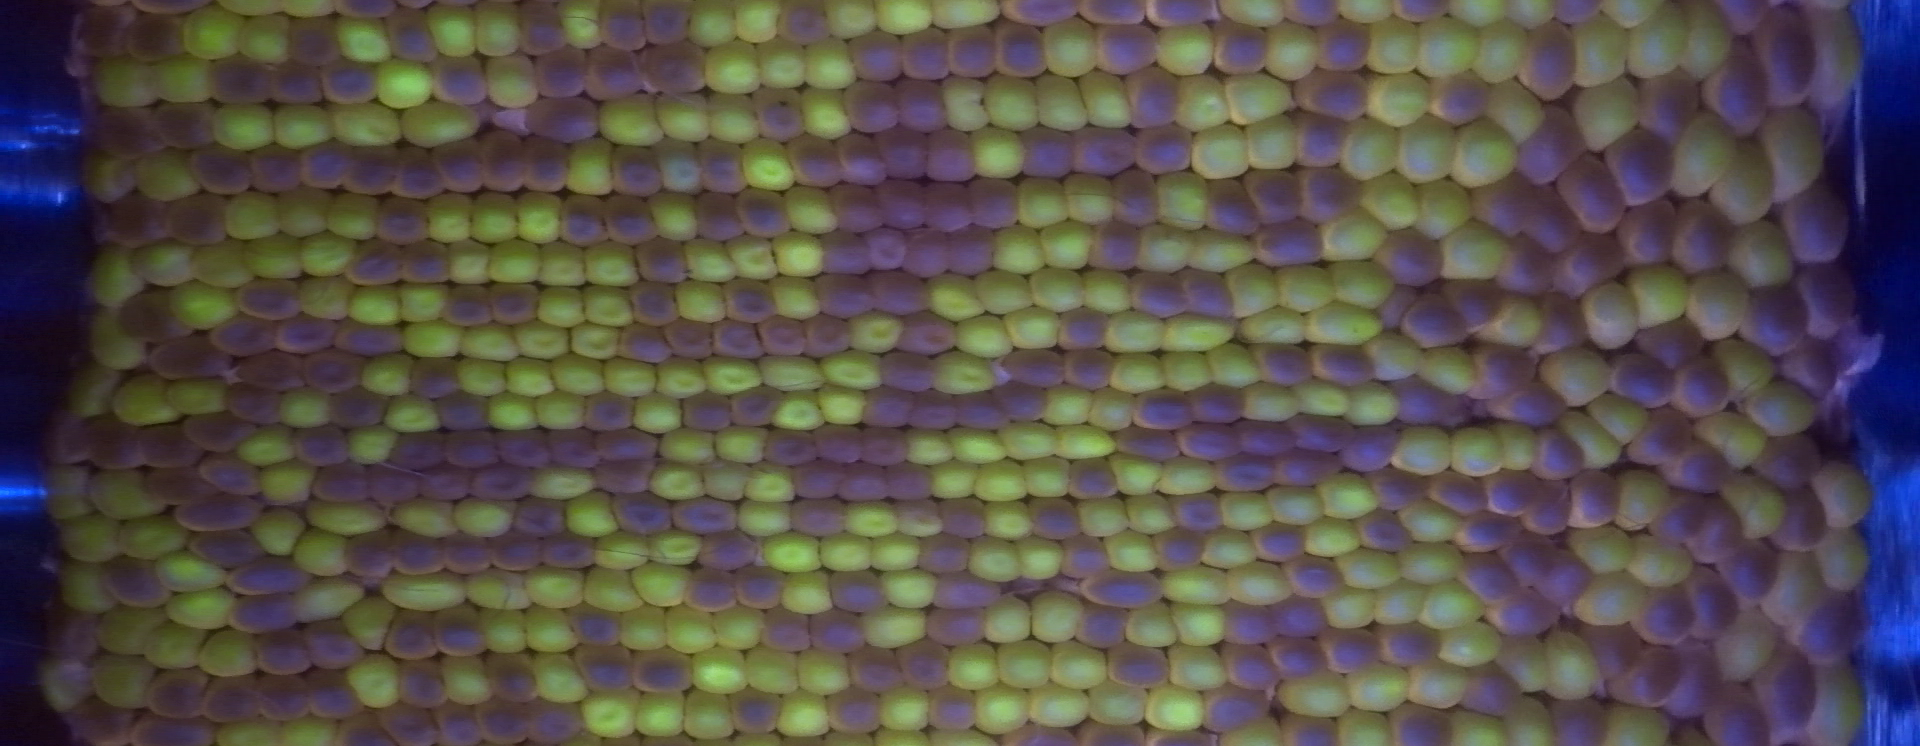fluorescent: (1767, 107, 1822, 202), (1673, 111, 1731, 197), (1767, 544, 1826, 630), (1575, 80, 1643, 152), (1714, 145, 1774, 225), (1817, 13, 1866, 110), (1811, 661, 1864, 746), (1685, 269, 1745, 343), (1627, 12, 1691, 81), (1453, 120, 1515, 191), (1547, 631, 1604, 706), (1414, 13, 1480, 78), (1738, 380, 1812, 436), (1720, 472, 1783, 539), (1719, 604, 1769, 686), (1693, 413, 1768, 468), (81, 472, 164, 521), (1485, 77, 1545, 145), (1438, 220, 1505, 281), (1816, 459, 1870, 534), (1730, 225, 1791, 290), (1572, 571, 1643, 626), (1570, 20, 1627, 86), (1627, 265, 1690, 325), (109, 376, 180, 428), (1629, 530, 1691, 588), (1402, 115, 1456, 181), (1718, 334, 1772, 401), (1344, 118, 1400, 181), (596, 94, 662, 147), (92, 316, 153, 372), (1155, 171, 1209, 235), (1540, 352, 1607, 403), (1358, 173, 1417, 230), (1416, 175, 1471, 236), (1320, 208, 1382, 262), (399, 104, 478, 147), (169, 284, 238, 333), (96, 56, 160, 108), (1476, 20, 1527, 85), (1392, 426, 1453, 480), (58, 514, 120, 567), (1816, 526, 1869, 588), (1685, 2, 1728, 78), (135, 148, 195, 202), (381, 570, 460, 610), (1307, 307, 1384, 349), (1224, 76, 1293, 122), (131, 243, 200, 289), (1581, 289, 1637, 345), (973, 684, 1031, 739), (1277, 671, 1347, 717), (1371, 76, 1431, 129), (88, 250, 141, 310), (1572, 526, 1633, 577), (482, 50, 538, 107), (182, 5, 240, 59), (1041, 18, 1095, 76), (1592, 388, 1649, 442), (165, 374, 230, 421), (1417, 582, 1482, 630), (1266, 20, 1319, 78), (1079, 67, 1131, 126), (118, 516, 187, 560), (1158, 315, 1234, 355), (88, 663, 152, 710), (583, 563, 647, 611), (376, 58, 432, 111), (274, 186, 333, 238), (1226, 258, 1277, 317), (1569, 408, 1620, 467), (293, 530, 354, 579), (1422, 343, 1476, 398), (1245, 115, 1302, 168), (474, 1, 525, 59), (1618, 465, 1663, 530), (99, 609, 160, 657), (162, 590, 234, 631), (1191, 228, 1258, 272), (704, 40, 758, 94), (1033, 75, 1086, 130), (564, 488, 620, 540), (66, 358, 118, 414), (200, 630, 257, 680), (332, 107, 399, 149), (1030, 684, 1093, 729), (1411, 661, 1469, 710), (242, 233, 302, 281), (467, 563, 527, 611), (1340, 546, 1404, 590), (157, 552, 225, 594), (1438, 619, 1499, 665), (1160, 24, 1213, 77), (531, 649, 584, 703), (225, 191, 280, 243), (343, 657, 398, 708), (998, 642, 1053, 693), (1488, 294, 1543, 345), (293, 575, 355, 620), (1144, 686, 1206, 731), (707, 93, 763, 143), (304, 500, 383, 535), (1368, 18, 1417, 76), (1276, 262, 1333, 311), (1401, 494, 1460, 541), (271, 103, 336, 146), (744, 141, 797, 194), (982, 76, 1036, 127), (458, 320, 522, 363), (1227, 563, 1291, 606), (688, 652, 752, 695), (454, 495, 514, 540), (673, 274, 725, 327), (64, 561, 115, 614), (255, 506, 306, 559), (1053, 637, 1106, 688), (336, 13, 389, 64), (983, 590, 1033, 644), (858, 606, 923, 648), (1068, 173, 1117, 228), (992, 223, 1047, 272), (1402, 541, 1462, 586), (803, 36, 853, 88), (1178, 76, 1231, 126), (948, 641, 998, 693), (1191, 127, 1245, 176), (616, 605, 671, 653), (1347, 668, 1408, 710), (758, 352, 823, 392), (1336, 261, 1393, 306), (49, 464, 94, 522), (156, 58, 214, 102), (945, 75, 989, 134), (1166, 644, 1224, 688), (443, 654, 491, 708), (522, 608, 576, 655), (580, 691, 636, 737), (1449, 431, 1504, 478), (486, 240, 542, 285), (800, 88, 850, 138), (656, 91, 707, 141), (634, 559, 684, 609), (1044, 222, 1093, 273), (931, 352, 989, 394), (1029, 594, 1078, 646), (429, 2, 476, 55), (1139, 223, 1191, 271), (665, 603, 718, 650), (1240, 305, 1307, 343), (978, 267, 1032, 314), (148, 621, 203, 666), (326, 196, 382, 240), (1000, 421, 1057, 465), (683, 693, 740, 737), (1108, 312, 1166, 355), (780, 573, 838, 616), (389, 497, 454, 535), (749, 649, 800, 698), (975, 130, 1026, 178), (1324, 472, 1375, 519), (651, 191, 698, 244), (583, 241, 636, 288), (189, 246, 251, 285), (1607, 707, 1669, 746), (785, 187, 839, 233), (1158, 567, 1227, 603), (636, 696, 691, 740), (1495, 420, 1539, 475), (1239, 383, 1300, 423), (771, 230, 822, 278), (687, 2, 738, 49), (475, 191, 522, 243), (780, 692, 833, 737), (1269, 488, 1327, 528), (1158, 456, 1217, 496), (1449, 702, 1502, 746), (571, 141, 613, 196), (820, 352, 880, 391), (756, 39, 804, 87), (931, 276, 980, 323), (429, 192, 475, 243), (1033, 267, 1084, 314), (1370, 330, 1417, 380), (216, 107, 273, 147), (959, 316, 1016, 356), (1298, 379, 1356, 419), (299, 233, 351, 277), (517, 192, 561, 245), (1021, 174, 1065, 227), (345, 595, 389, 648), (1078, 494, 1131, 537), (500, 360, 558, 399), (762, 532, 820, 571), (479, 612, 527, 660), (880, 688, 929, 735), (541, 238, 587, 288), (1163, 350, 1215, 394), (633, 393, 684, 437), (849, 311, 901, 354), (1025, 456, 1078, 499), (591, 533, 649, 572), (524, 565, 582, 604), (241, 15, 288, 62), (82, 159, 131, 205), (583, 285, 633, 330), (605, 356, 655, 401), (1042, 383, 1092, 428), (1090, 685, 1146, 724), (553, 356, 605, 399), (276, 390, 328, 431), (239, 425, 291, 467), (977, 461, 1031, 501), (820, 534, 874, 575), (844, 499, 898, 539), (714, 605, 762, 650), (800, 652, 847, 697), (1224, 489, 1273, 533), (1212, 341, 1262, 383), (1349, 381, 1400, 424), (528, 462, 593, 495), (705, 353, 758, 393), (1127, 605, 1179, 646), (1371, 583, 1425, 622), (658, 428, 713, 465), (981, 503, 1036, 541), (969, 541, 1019, 583), (1058, 425, 1117, 461), (715, 425, 767, 465), (1202, 526, 1254, 566), (1174, 606, 1227, 646), (397, 281, 444, 323), (518, 321, 569, 360), (1113, 354, 1164, 393), (1106, 530, 1157, 570), (1506, 695, 1545, 746), (740, 2, 785, 47), (770, 274, 817, 317), (659, 356, 705, 399), (261, 465, 315, 502), (1307, 517, 1356, 557), (1007, 309, 1057, 348), (949, 425, 999, 464), (929, 462, 980, 501), (883, 571, 936, 608), (1082, 269, 1130, 310), (1324, 584, 1371, 625), (300, 283, 351, 320), (407, 323, 462, 358), (386, 396, 437, 432), (1090, 386, 1131, 431), (560, 2, 600, 49), (933, 2, 1003, 29), (871, 532, 918, 571), (351, 284, 400, 322), (648, 464, 702, 499), (735, 497, 789, 532), (567, 323, 617, 360), (733, 236, 775, 281), (688, 245, 733, 285), (538, 289, 583, 330), (909, 428, 954, 468), (351, 425, 392, 470), (1127, 495, 1172, 535), (362, 358, 409, 397), (1018, 540, 1064, 579), (1112, 458, 1161, 495), (820, 391, 869, 428), (462, 359, 504, 401), (775, 394, 822, 432), (742, 465, 791, 501), (451, 243, 491, 285), (882, 4, 936, 36), (486, 396, 538, 429), (531, 394, 580, 429), (827, 2, 878, 34), (650, 533, 699, 565)
nonfluorescent: (1776, 576, 1859, 663), (1509, 103, 1584, 183), (1709, 40, 1771, 136), (1558, 151, 1624, 233), (1755, 10, 1813, 100), (1760, 649, 1818, 739), (1740, 284, 1811, 358), (1607, 127, 1673, 205), (1673, 192, 1731, 278), (1785, 186, 1848, 266), (1518, 21, 1575, 100), (1600, 345, 1675, 404), (1611, 647, 1678, 710), (1531, 292, 1586, 367), (1704, 682, 1769, 746), (1771, 489, 1829, 559), (1558, 234, 1625, 294), (1473, 171, 1534, 236), (1641, 70, 1702, 134), (103, 190, 169, 249), (116, 292, 189, 344), (1522, 185, 1578, 252), (1621, 200, 1675, 269), (1689, 568, 1739, 643), (1630, 586, 1692, 646), (1636, 318, 1704, 372), (1805, 267, 1855, 341), (1670, 638, 1716, 719), (1760, 430, 1822, 488), (1379, 225, 1442, 282), (1393, 375, 1461, 428), (642, 45, 709, 97), (1651, 492, 1709, 551), (1211, 16, 1269, 76), (1584, 622, 1633, 692), (1779, 345, 1847, 396), (1296, 73, 1371, 118), (100, 557, 165, 609), (1488, 383, 1567, 425), (93, 105, 153, 160), (1629, 412, 1689, 467), (191, 146, 253, 198), (164, 198, 227, 251), (1429, 71, 1491, 124), (573, 644, 637, 696), (1489, 590, 1559, 637), (1016, 124, 1075, 179), (84, 416, 143, 472), (1461, 661, 1520, 717), (996, 20, 1048, 81), (1692, 500, 1742, 563), (1258, 223, 1326, 269), (1071, 127, 1136, 176), (392, 143, 449, 198), (1668, 436, 1725, 491), (227, 554, 304, 594), (184, 528, 266, 566), (433, 138, 489, 195), (1404, 295, 1463, 348), (1354, 507, 1416, 557), (147, 668, 209, 717), (923, 127, 978, 183), (587, 47, 639, 104), (337, 146, 396, 197), (1444, 279, 1502, 331), (149, 339, 231, 376), (1133, 122, 1193, 173), (253, 627, 313, 677), (252, 671, 312, 722), (1723, 543, 1773, 603), (80, 1, 129, 62), (384, 7, 440, 61), (1205, 179, 1259, 234), (1310, 341, 1378, 385), (1675, 361, 1729, 416), (432, 54, 489, 107), (601, 195, 658, 247), (1468, 345, 1524, 398), (124, 13, 182, 64), (1127, 268, 1185, 318), (1106, 646, 1174, 688), (997, 348, 1067, 390), (1247, 171, 1300, 225), (1316, 16, 1369, 71), (610, 141, 662, 196), (1531, 430, 1587, 481), (817, 269, 874, 320), (1093, 24, 1157, 70), (525, 102, 599, 141), (331, 383, 389, 432), (304, 673, 362, 722), (336, 318, 404, 360), (787, 134, 840, 187), (1458, 511, 1524, 554), (1297, 113, 1346, 170), (1296, 170, 1344, 228), (1389, 704, 1456, 746), (634, 649, 694, 696), (1547, 699, 1607, 746), (670, 492, 741, 532), (247, 146, 309, 191), (1111, 171, 1163, 224), (38, 659, 91, 712), (1029, 491, 1081, 544), (233, 278, 301, 318), (1458, 551, 1512, 603), (433, 606, 489, 657), (1498, 241, 1553, 292), (1127, 67, 1176, 124), (480, 129, 524, 191), (200, 456, 266, 497), (1340, 424, 1398, 470), (1272, 594, 1331, 641), (835, 132, 887, 185), (896, 78, 948, 131), (40, 412, 91, 465), (375, 198, 430, 247), (556, 196, 611, 245), (43, 608, 99, 655), (304, 621, 360, 669), (683, 567, 740, 615), (1374, 464, 1430, 512), (1113, 420, 1176, 463), (1082, 575, 1163, 608), (1174, 423, 1240, 463), (1284, 555, 1343, 600), (173, 499, 260, 529), (538, 48, 588, 100), (853, 32, 904, 85), (948, 29, 998, 82), (845, 85, 898, 135), (831, 183, 882, 235), (1221, 599, 1273, 649), (189, 415, 256, 454), (490, 655, 538, 710), (311, 461, 372, 503), (1201, 690, 1272, 726), (154, 102, 212, 147), (1429, 468, 1487, 513), (931, 575, 999, 612), (1376, 626, 1439, 668), (216, 314, 274, 358), (1524, 478, 1569, 537), (899, 646, 951, 695), (830, 566, 883, 615), (290, 15, 338, 69), (522, 5, 568, 60), (225, 592, 295, 628), (438, 532, 493, 578), (1567, 472, 1614, 527), (774, 1, 830, 47), (634, 238, 691, 283), (871, 272, 927, 317), (1179, 269, 1236, 315), (498, 428, 556, 472), (1135, 385, 1193, 429), (273, 316, 336, 356), (764, 606, 814, 657), (944, 228, 993, 279), (233, 354, 301, 391), (349, 238, 402, 285), (1537, 554, 1589, 601), (876, 348, 929, 394), (527, 696, 580, 742), (857, 383, 912, 429), (1322, 627, 1379, 671), (1510, 528, 1550, 589), (443, 430, 501, 473), (1190, 383, 1248, 426), (383, 610, 433, 659), (923, 606, 986, 646), (699, 138, 744, 192), (391, 532, 444, 577), (809, 606, 864, 650), (754, 87, 801, 138), (642, 1, 694, 47), (884, 181, 929, 234), (348, 527, 393, 579), (1227, 644, 1280, 690), (882, 124, 926, 178), (386, 432, 444, 473), (827, 690, 880, 734), (1258, 341, 1311, 385), (1269, 638, 1329, 677), (928, 684, 976, 733), (729, 688, 779, 735), (203, 677, 255, 723), (399, 657, 444, 708), (1294, 413, 1356, 451), (1074, 601, 1127, 646), (899, 314, 953, 356), (142, 425, 197, 467), (478, 699, 527, 746), (375, 706, 431, 746), (629, 284, 680, 330), (999, 379, 1051, 423), (571, 601, 622, 646), (1056, 309, 1108, 352), (906, 390, 959, 432), (512, 494, 564, 537), (758, 314, 804, 361), (1090, 222, 1138, 268), (927, 185, 972, 234), (733, 563, 782, 609), (902, 31, 947, 81), (489, 532, 540, 575), (527, 138, 568, 191), (617, 495, 670, 537), (1237, 423, 1300, 457), (659, 138, 699, 192), (849, 648, 902, 688), (740, 192, 789, 236), (225, 387, 280, 426), (1485, 465, 1529, 514), (714, 318, 764, 361), (582, 388, 632, 431), (973, 178, 1015, 229), (1157, 530, 1209, 572), (789, 495, 845, 533), (683, 392, 736, 432), (299, 348, 351, 388), (1254, 524, 1308, 563), (693, 197, 741, 241), (696, 535, 757, 570), (147, 465, 202, 503), (954, 392, 1005, 432), (441, 285, 493, 325), (367, 468, 421, 506), (800, 315, 849, 356), (302, 143, 343, 194), (839, 467, 889, 507), (1273, 457, 1337, 489), (759, 431, 818, 465), (1217, 457, 1273, 492), (600, 431, 662, 463), (595, 462, 654, 495), (402, 240, 444, 285), (726, 278, 771, 321), (792, 462, 845, 499), (540, 535, 596, 570), (732, 388, 780, 429), (861, 426, 909, 467), (1173, 490, 1221, 530), (1060, 537, 1109, 576), (487, 285, 538, 323), (618, 327, 670, 364), (907, 232, 949, 277), (468, 465, 527, 497), (820, 236, 869, 274), (298, 428, 347, 465), (599, 6, 644, 47), (436, 707, 482, 746), (1073, 461, 1119, 500), (921, 537, 969, 575), (871, 229, 907, 278), (1067, 349, 1116, 386), (940, 496, 983, 538), (814, 428, 861, 465), (889, 464, 936, 502), (551, 430, 594, 470), (411, 356, 456, 396), (437, 399, 492, 430), (669, 320, 710, 359), (421, 467, 471, 499), (1382, 283, 1412, 328)
